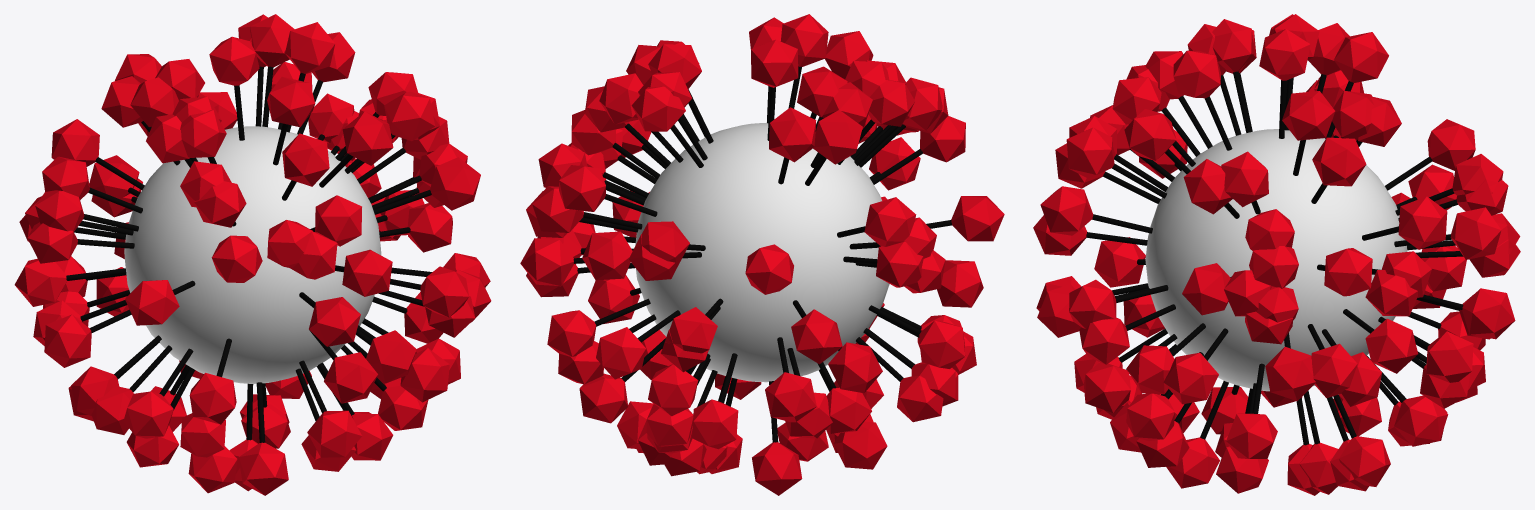
File: VirusEnemy 1.fbx
The picture shows the model from 3 angles, left to right: view 1: azimuth 30°, elevation 25°; view 2: azimuth 150°, elevation 25°; view 3: azimuth 270°, elevation 25°; orthographic projection.
Parts seen in each view (by area): view 1: Sphere; view 2: Sphere; view 3: Sphere.
Boxes of the visible parts, <box> form: Sphere: <box>14,14,491,495</box>; Sphere: <box>520,14,1004,495</box>; Sphere: <box>1033,14,1520,495</box>.
Bounding box in the file's own units: 224 × 226 × 225.
